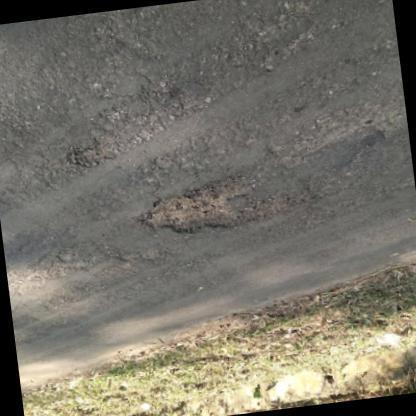pothole: (136, 156, 326, 236), (63, 94, 176, 174)
